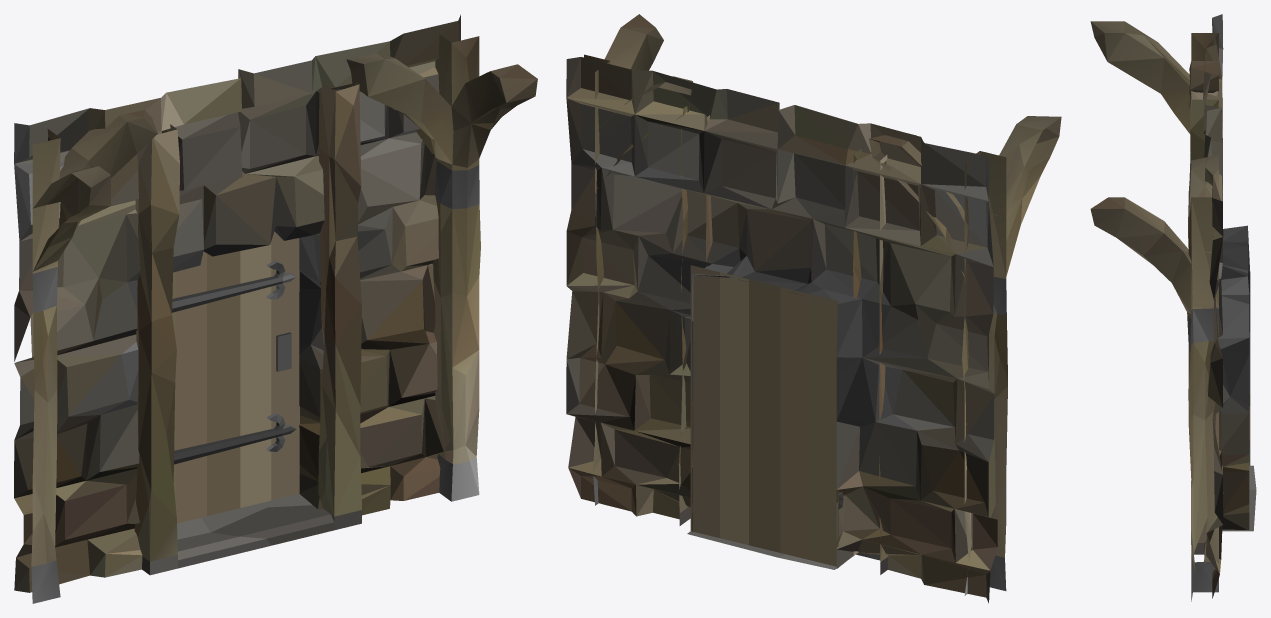
The model's file is UG-DoorA.fbx.
3 views of the same model, side by side, from view 1: azimuth 30°, elevation 25°; view 2: azimuth 150°, elevation 25°; view 3: azimuth 270°, elevation 25° (orthographic). The views are drawn at different scales.
Visible parts, largest first — view 1: UG-DoorA; view 2: UG-DoorA; view 3: UG-DoorA.
Boxes of the visible parts, x1,y1,x2,y2 form: UG-DoorA: [14, 14, 537, 603]; UG-DoorA: [566, 14, 1061, 603]; UG-DoorA: [1090, 14, 1256, 601].
Bounding box in the file's own units: 400 × 400 × 150.
